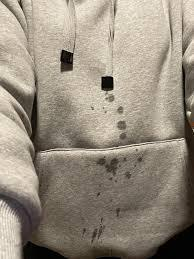mustard: (79, 225, 110, 242), (98, 156, 121, 175), (104, 95, 121, 108), (118, 121, 129, 140), (89, 105, 100, 119), (116, 107, 126, 119), (116, 205, 122, 217), (125, 171, 133, 179), (138, 158, 144, 165), (98, 190, 104, 197), (131, 149, 138, 154)
